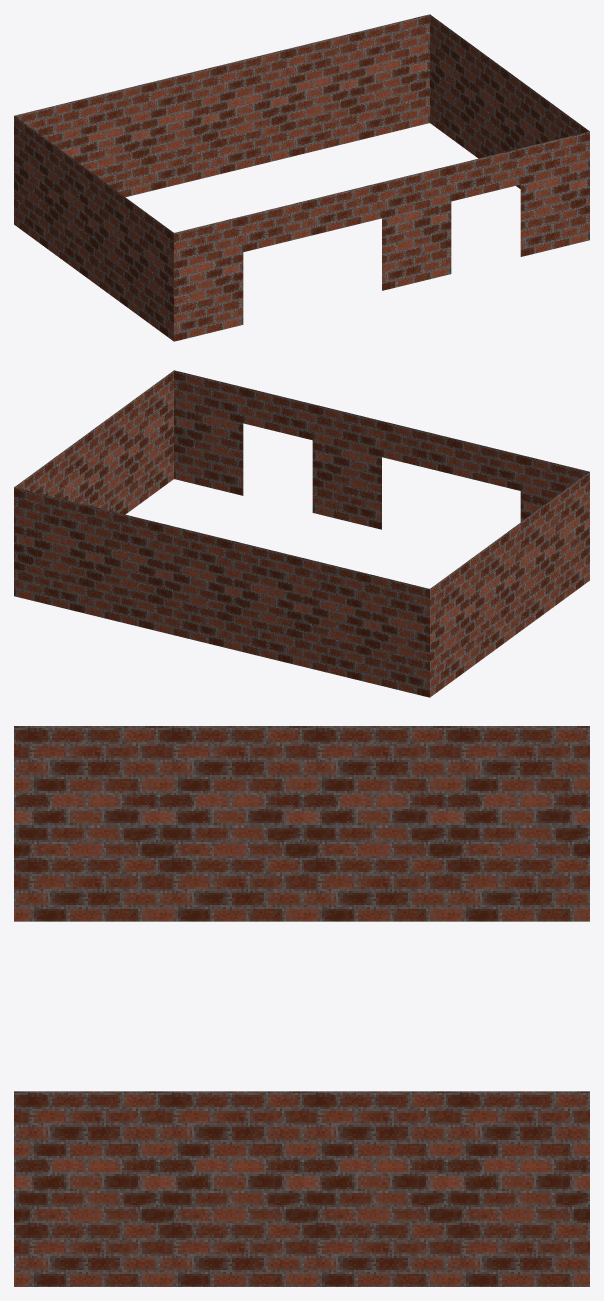
The model's file is Building_UpperWalls.fbx.
The picture shows the model from 3 angles, top to bottom: view 1: azimuth 30°, elevation 25°; view 2: azimuth 150°, elevation 25°; view 3: azimuth 270°, elevation 25°; orthographic projection. The views are drawn at different scales.
Visible parts, largest first — view 1: Building_UpperWalls; view 2: Building_UpperWalls; view 3: Building_UpperWalls.
Part boxes in pixels (bbox=[...]): Building_UpperWalls: bbox=[14, 14, 589, 341]; Building_UpperWalls: bbox=[14, 370, 589, 697]; Building_UpperWalls: bbox=[14, 726, 589, 1286].
Bounding box in the file's own units: 6 × 1.5 × 4.
